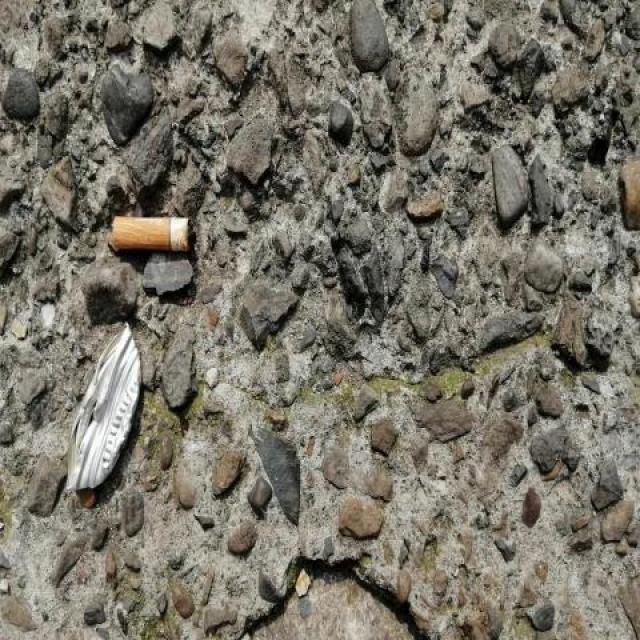non-organic waste: (106, 210, 201, 263)
